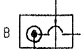Single Phase Tap-Off Unit: (17, 13, 74, 49)
